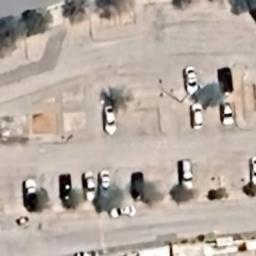sedan: (20, 177, 44, 214), (176, 158, 198, 194), (180, 64, 203, 98), (98, 106, 122, 137), (55, 172, 77, 203), (218, 99, 240, 129), (187, 101, 208, 132), (80, 169, 98, 203), (108, 202, 140, 220), (98, 166, 116, 196), (249, 155, 256, 186)
unknown: (214, 64, 240, 96), (127, 168, 150, 200)
